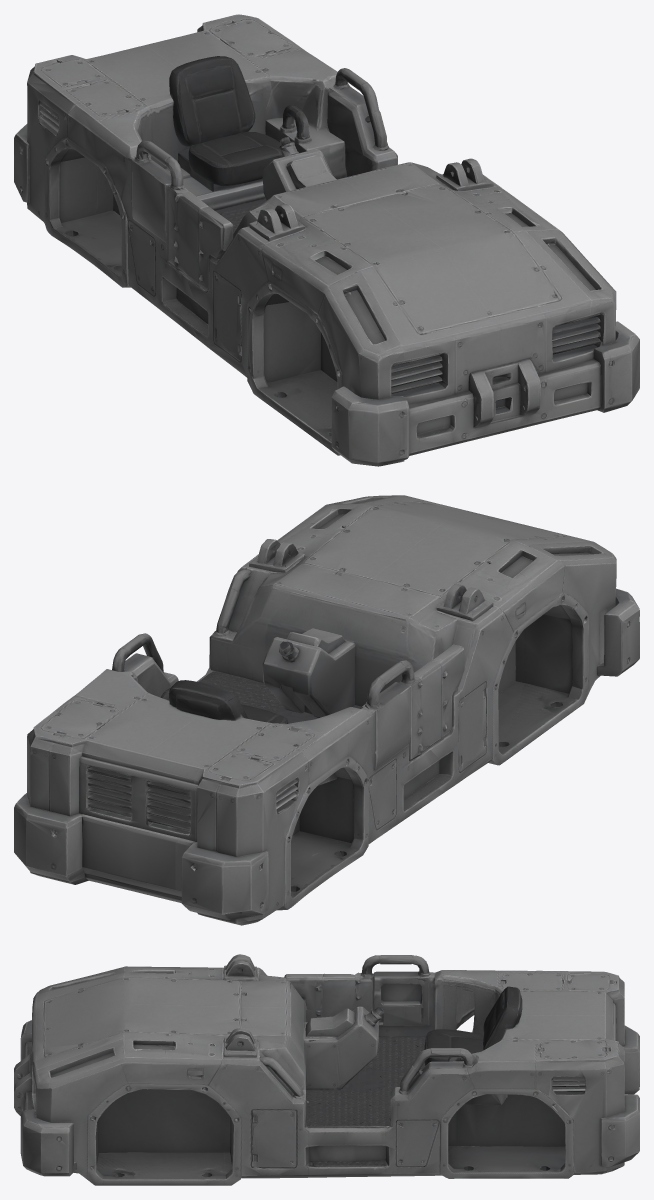
Rendered from shared_flight_deck_ordnance_tractor.glb.
The picture shows the model from 3 angles, top to bottom: view 1: azimuth 30°, elevation 25°; view 2: azimuth 150°, elevation 25°; view 3: azimuth 270°, elevation 25°; orthographic projection. The views are drawn at different scales.
Visible parts, largest first — view 1: mesh_node; view 2: mesh_node; view 3: mesh_node.
Boxes of the visible parts, bbox=[...] form: mesh_node: bbox=[14, 14, 639, 466]; mesh_node: bbox=[14, 495, 639, 925]; mesh_node: bbox=[14, 954, 639, 1185].
Size of the model in its own units: 1.72 by 1 by 3.96.
1 material, 1 textured.
